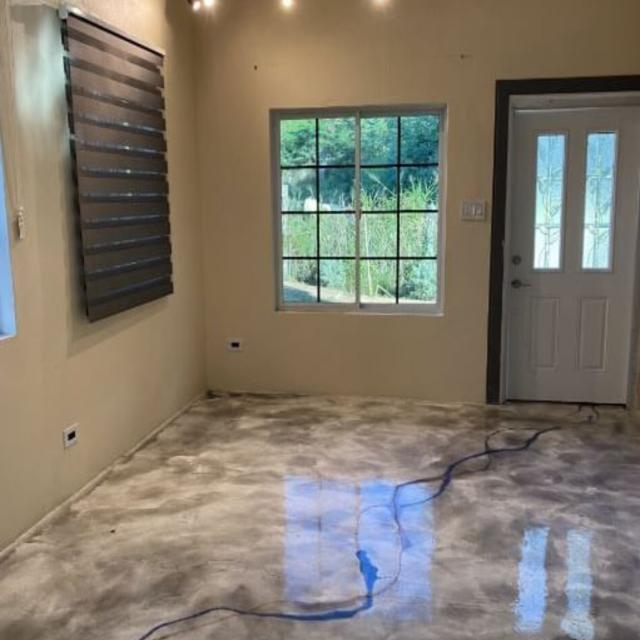ClosedDoor: (491, 82, 640, 416)
